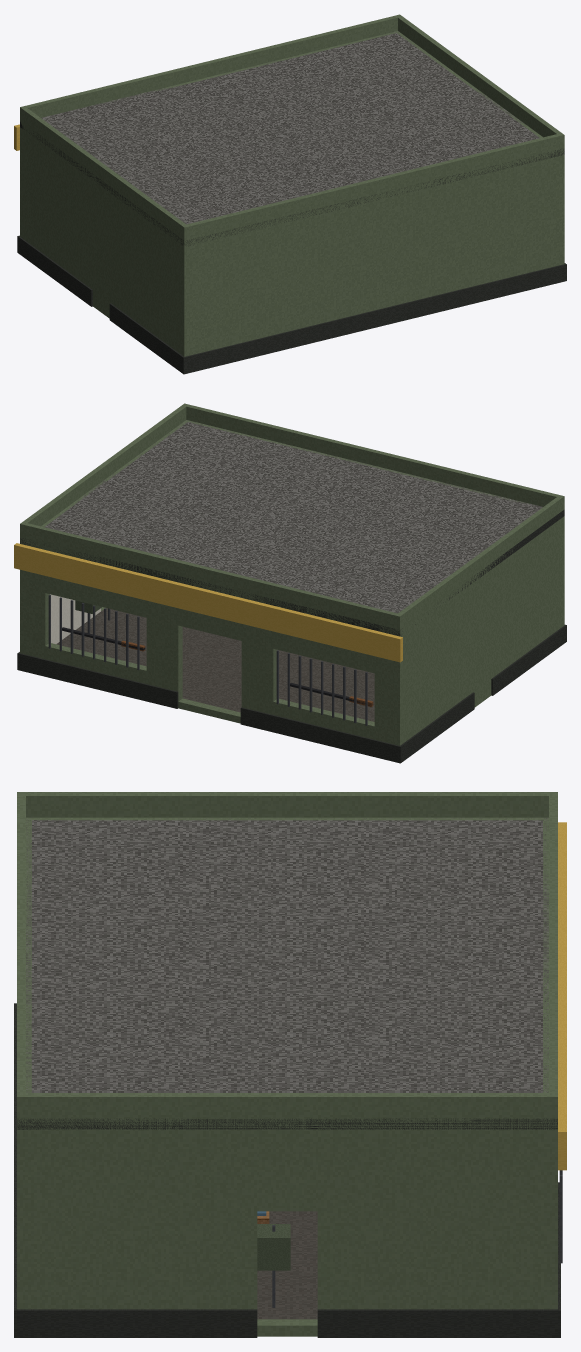
File: gun_shop.glb
3 views of the same model, one above another, from view 1: azimuth 30°, elevation 25°; view 2: azimuth 150°, elevation 25°; view 3: azimuth 270°, elevation 25° (orthographic). The views are drawn at different scales.
Visible parts, largest first — view 1: gun_shop; view 2: gun_shop; view 3: gun_shop.
Part boxes in pixels (left/top/right/bottom): gun_shop: left=14, top=14, right=566, bottom=374; gun_shop: left=14, top=403, right=566, bottom=763; gun_shop: left=14, top=792, right=566, bottom=1337.
Size of the model in its own units: 12.2 by 4.4 by 9.2.
13 materials, 13 textured.
